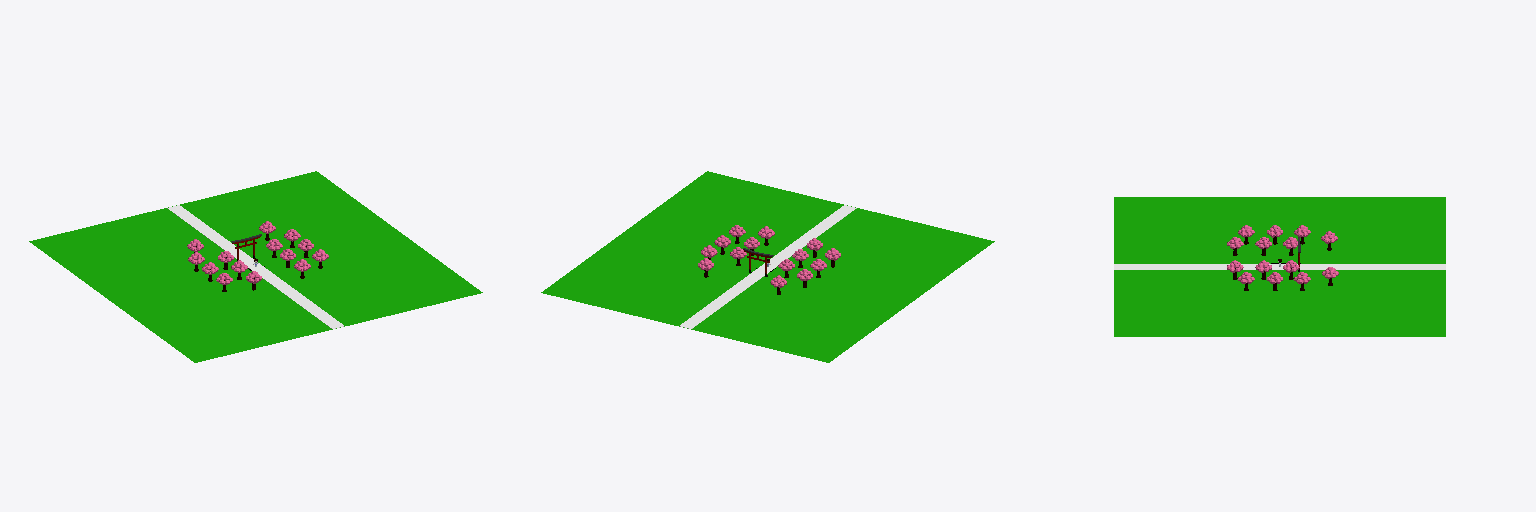
The picture shows the model from 3 angles: view 1: azimuth 30°, elevation 25°; view 2: azimuth 150°, elevation 25°; view 3: azimuth 270°, elevation 25°; orthographic projection.
Size of the model in its own units: 322 by 23.82 by 322.
13 materials, 2 textured.